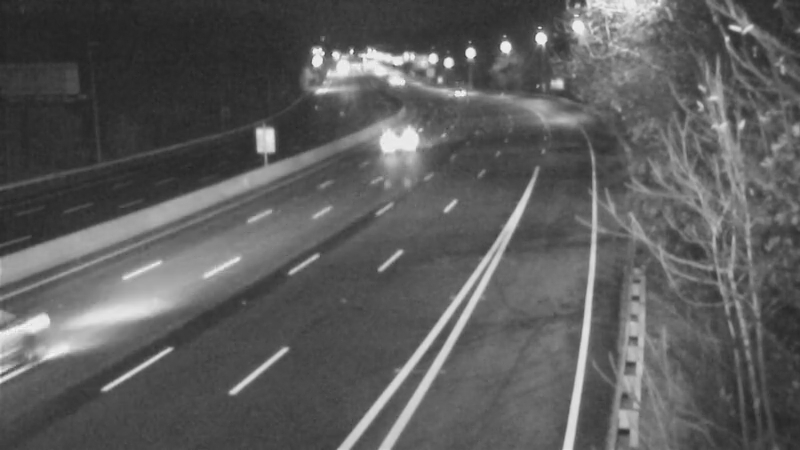vehicle: (431, 66, 481, 116), (373, 114, 423, 164)
